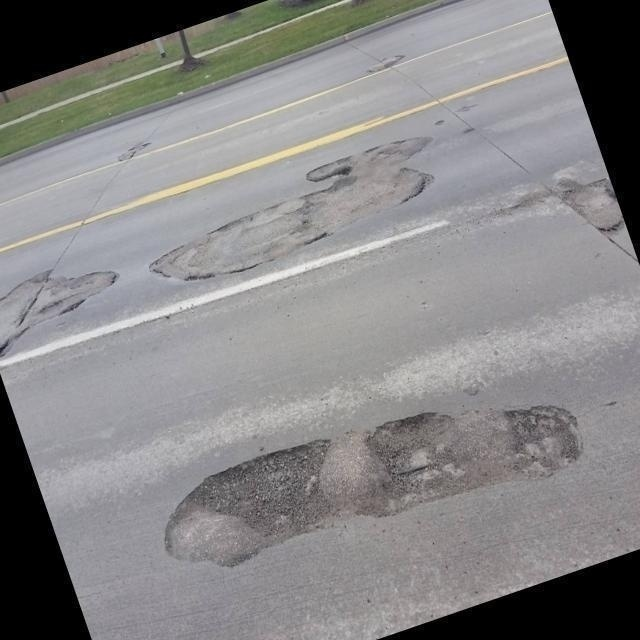pothole: (174, 413, 562, 543), (189, 146, 429, 294)
